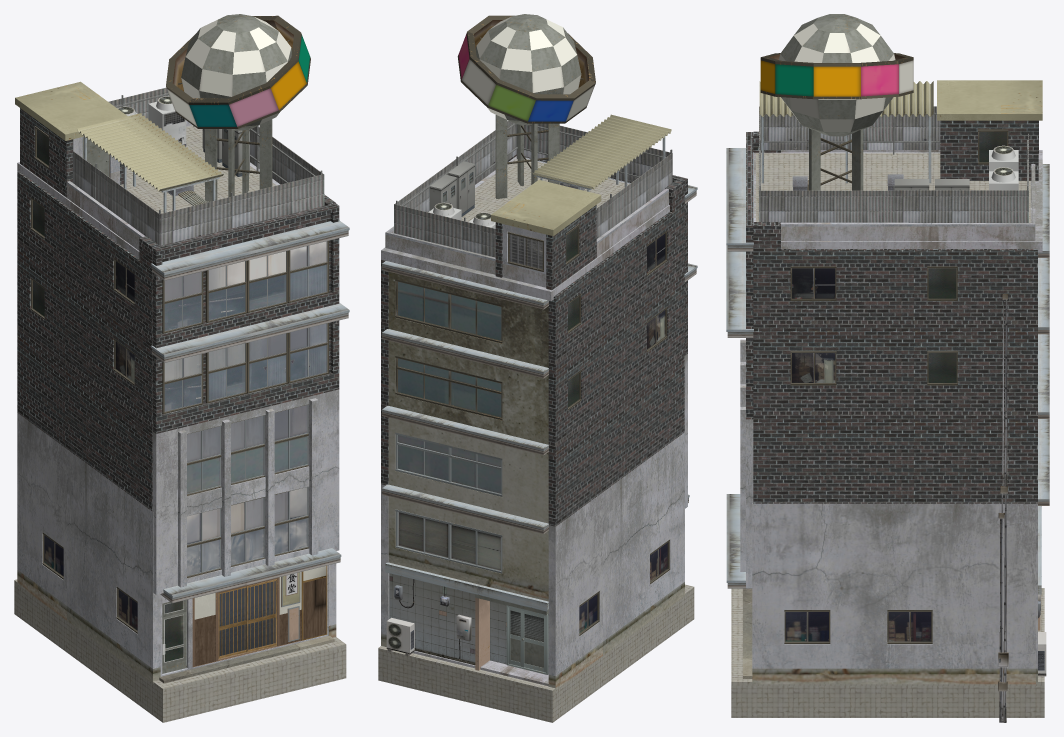
File: building_large_3.fbx
3 views of the same model, side by side, from view 1: azimuth 30°, elevation 25°; view 2: azimuth 150°, elevation 25°; view 3: azimuth 270°, elevation 25° (orthographic). The views are drawn at different scales.
Parts seen in each view (by area): view 1: building_large_3; view 2: building_large_3; view 3: building_large_3.
Part boxes in pixels (x1,y1,x2,y2): building_large_3: (14,14,349,722); building_large_3: (378,14,697,722); building_large_3: (726,14,1049,722).
Size of the model in its own units: 742 by 1049 by 2412.
Materials: 9 (9 with a texture image).
